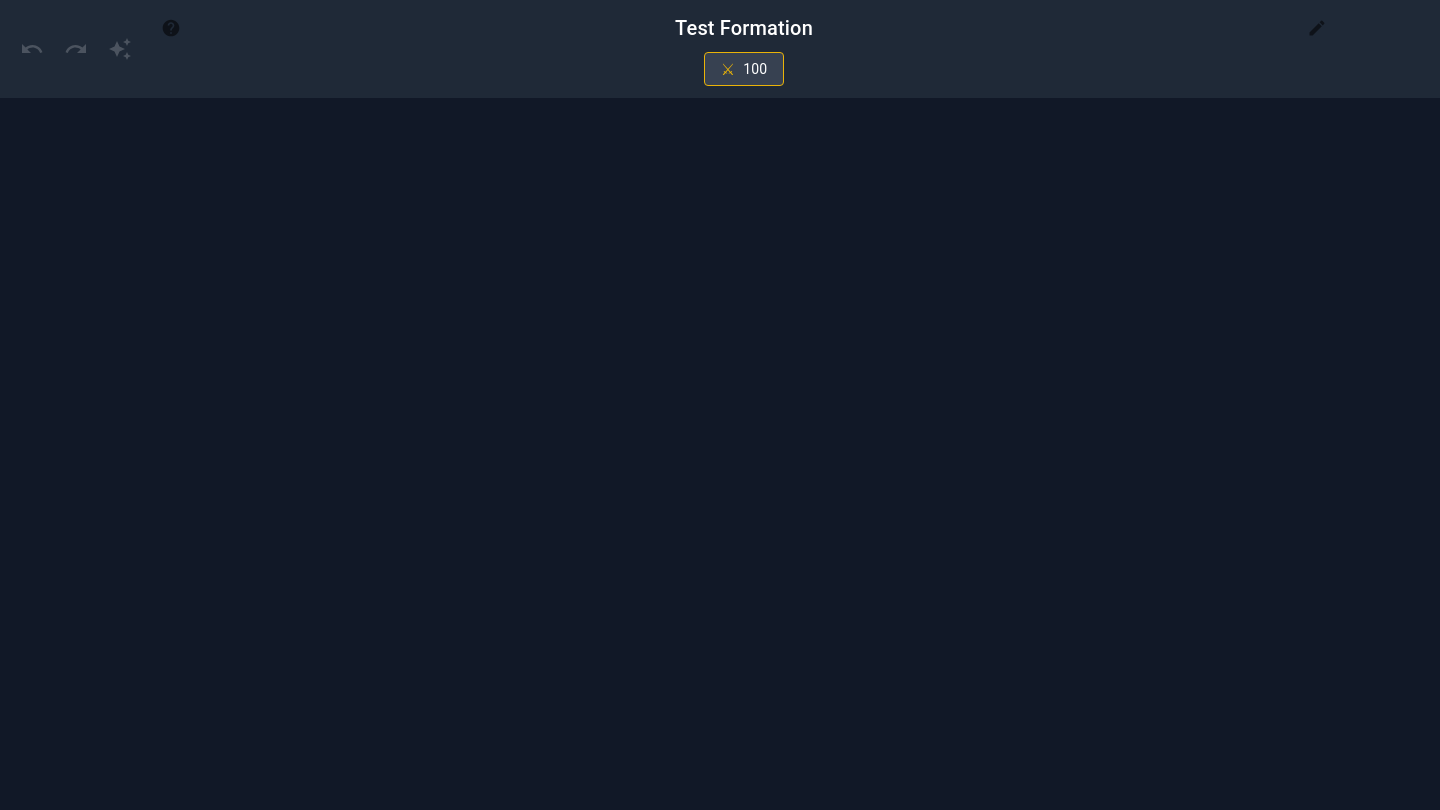
Test: FormationHeader › should open help overlay when help icon is clicked
Click the button named "Open help overlay": (171, 28) [156,13,186,43]
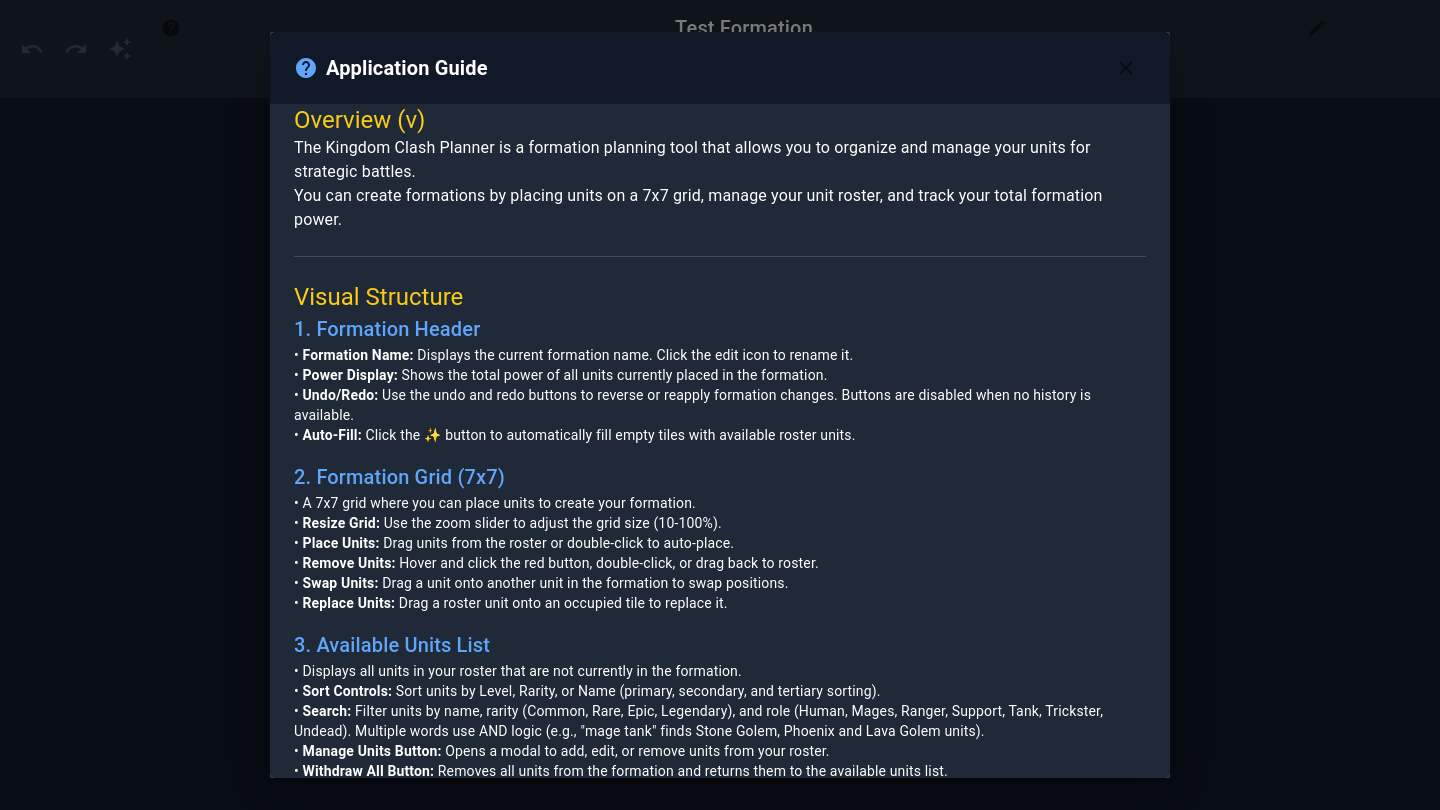
expect the text "Application Guide" is shown: met, box [326,52,488,84]
